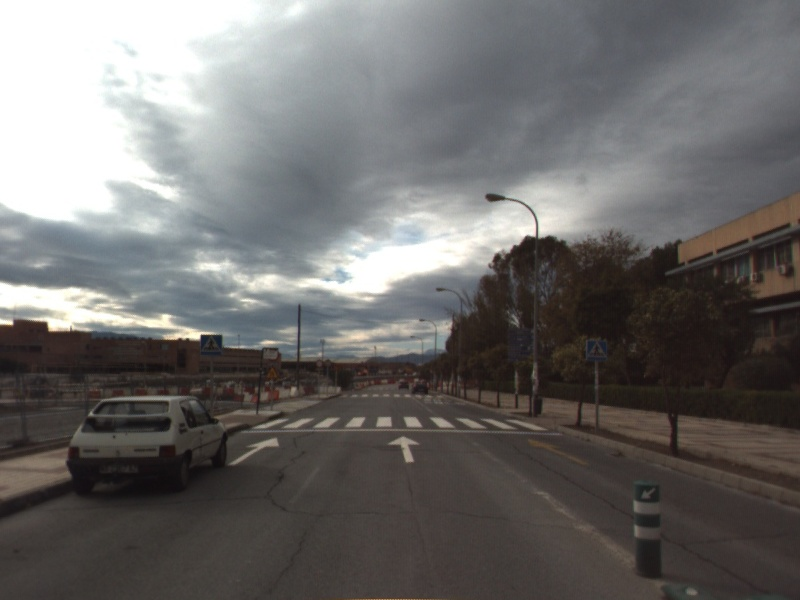STRAIGHT: (525, 435, 593, 467), (225, 435, 281, 468), (385, 433, 423, 464)
